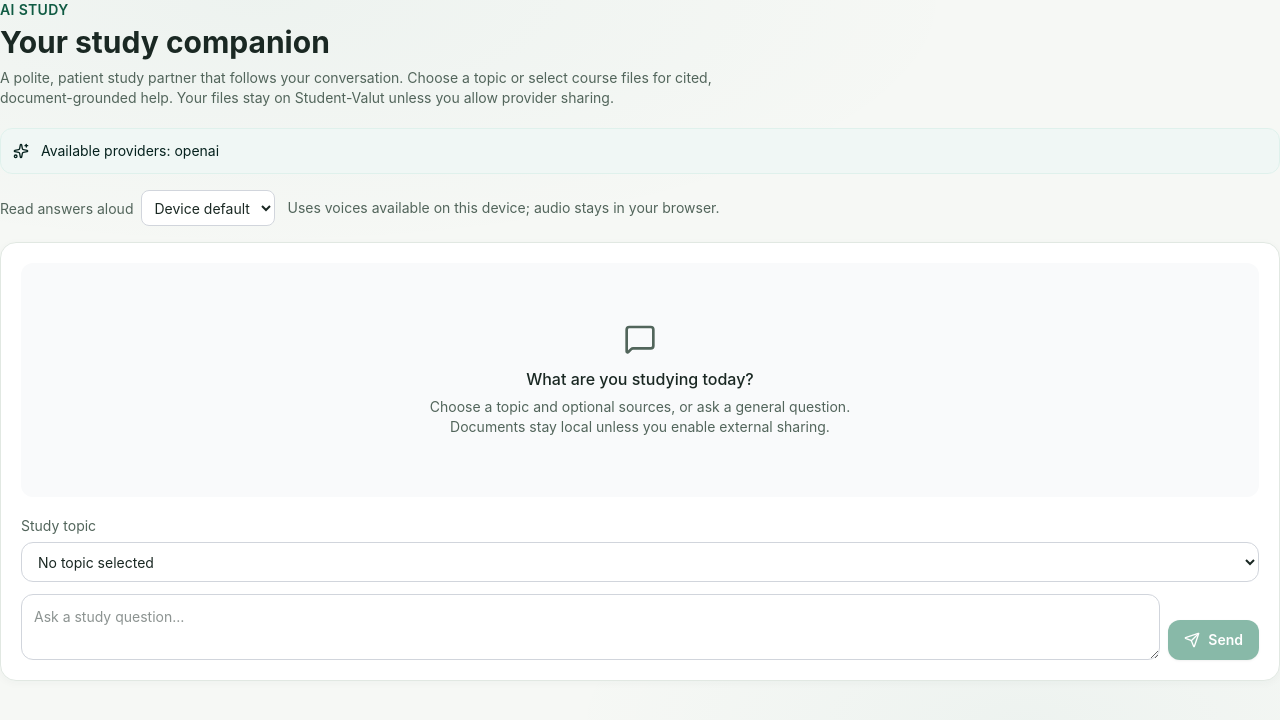
Test: AIPage › retrieves selected PDF passages locally by default and shows the retrieved evidence
Expected: the text "Available providers: openai" is shown, x1=41 y1=141 x2=219 y2=161
Step 1. Select "Biology: Photosynthesis" in the dropdown labelled "Study topic" → (640, 562), box x1=21 y1=542 x2=1259 y2=582
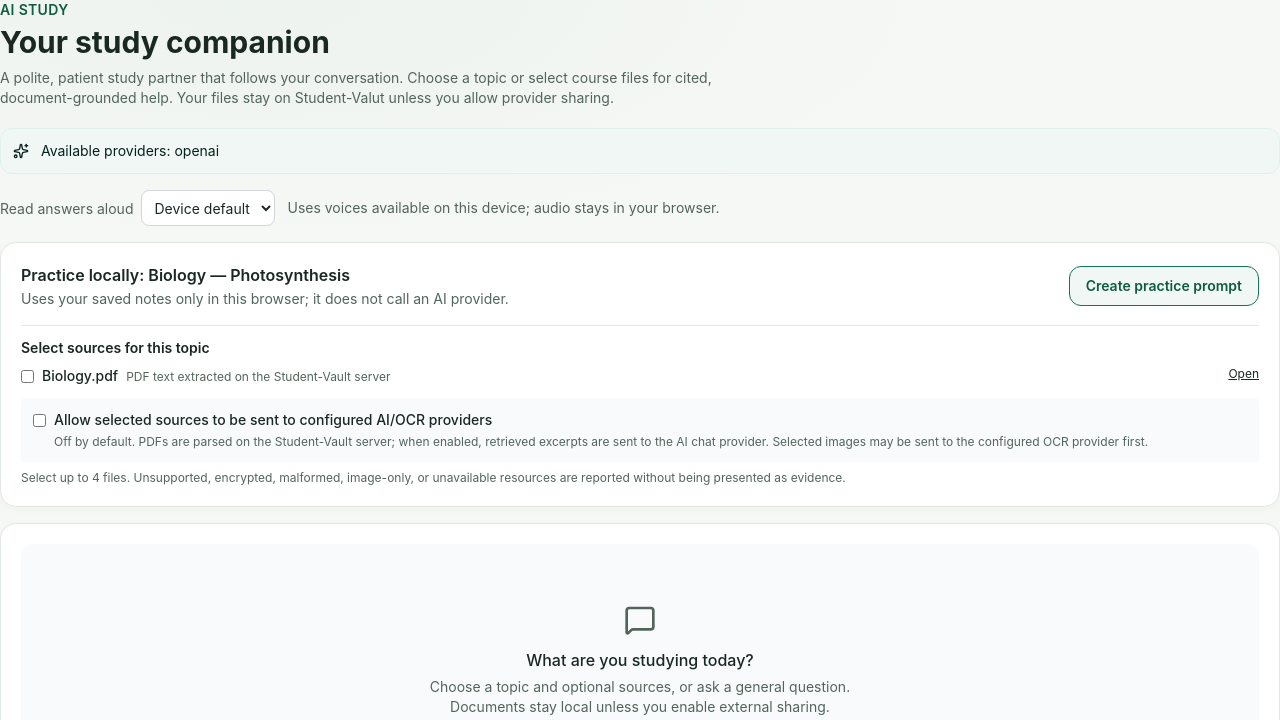
Step 2. Click the checkbox labelled "Biology.pdf" → (28, 376), box x1=21 y1=370 x2=34 y2=383
(page scrolled)
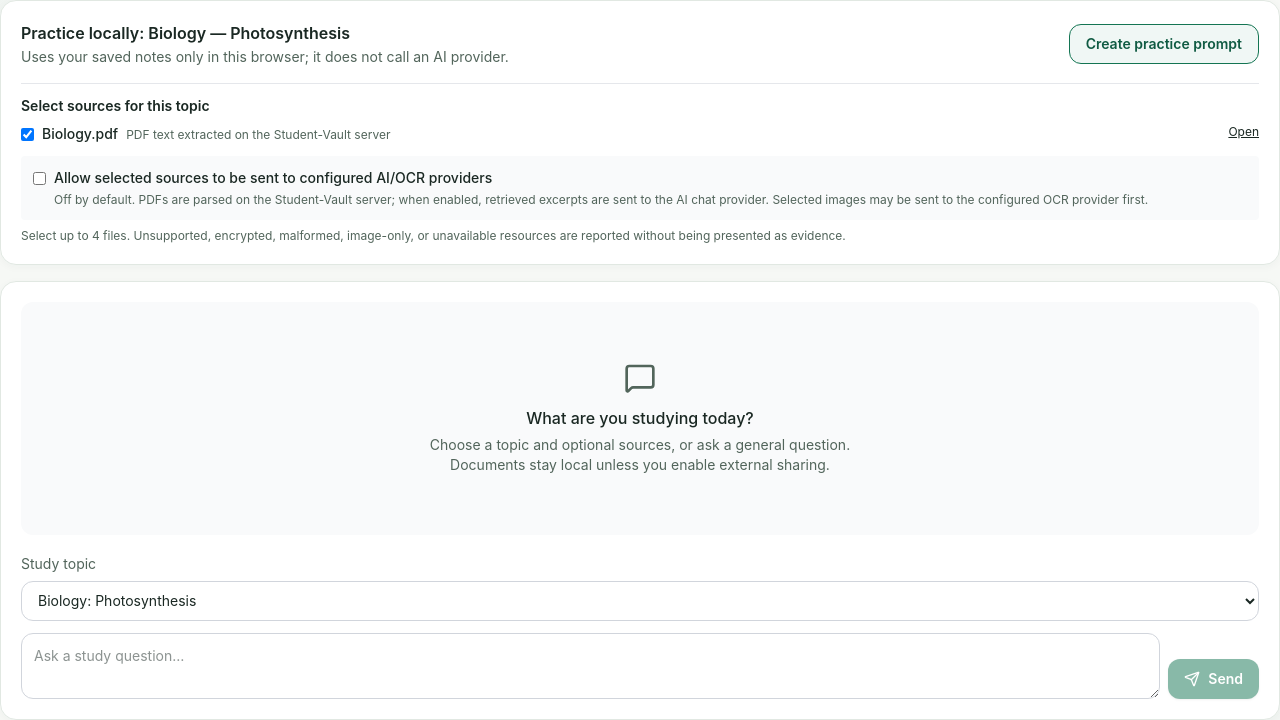
Step 3. Type "What does chlorophyll do?" into the text box named "Your study question" → (591, 666), box x1=21 y1=633 x2=1160 y2=699
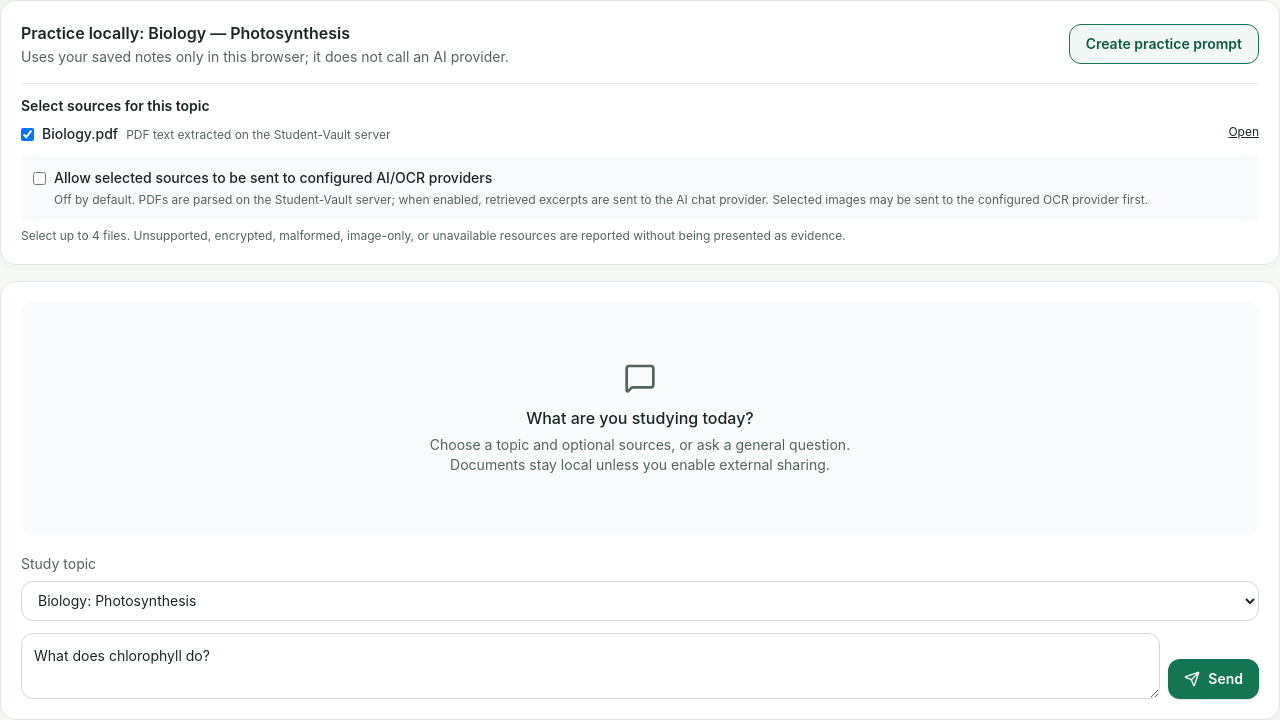
Step 4. Click the button with aria-label "Send question" → (1214, 679), box x1=1168 y1=659 x2=1259 y2=699
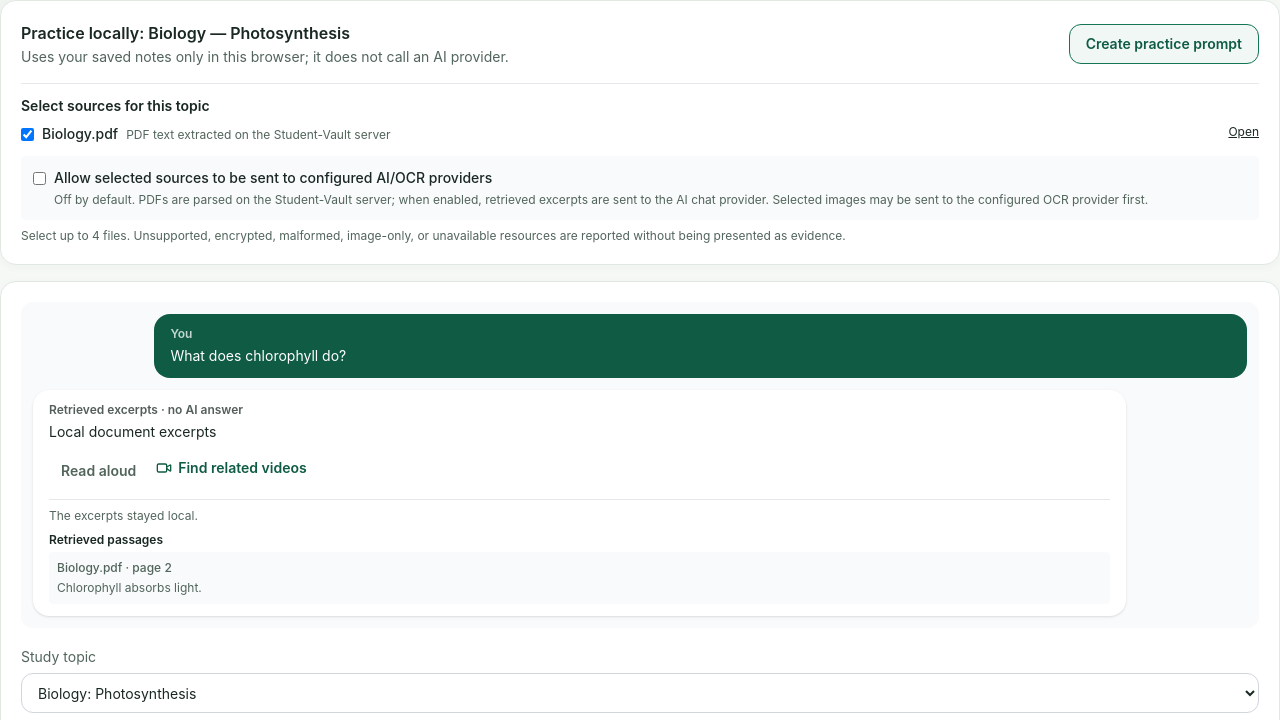
Expected: the text "Retrieved passages" is shown, x1=49 y1=532 x2=163 y2=547
Expected: the text "Chlorophyll absorbs light." is shown, x1=57 y1=580 x2=202 y2=595
